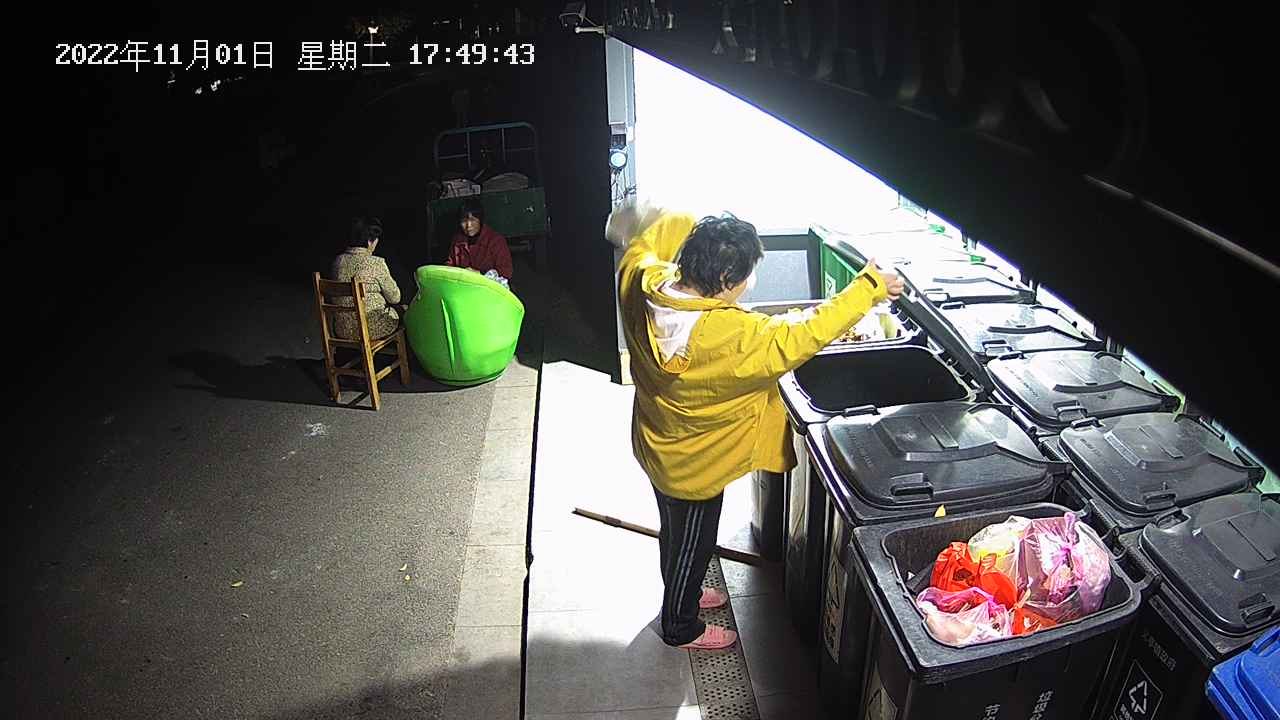person: (613, 211, 907, 652), (327, 213, 409, 342), (443, 200, 515, 295)
